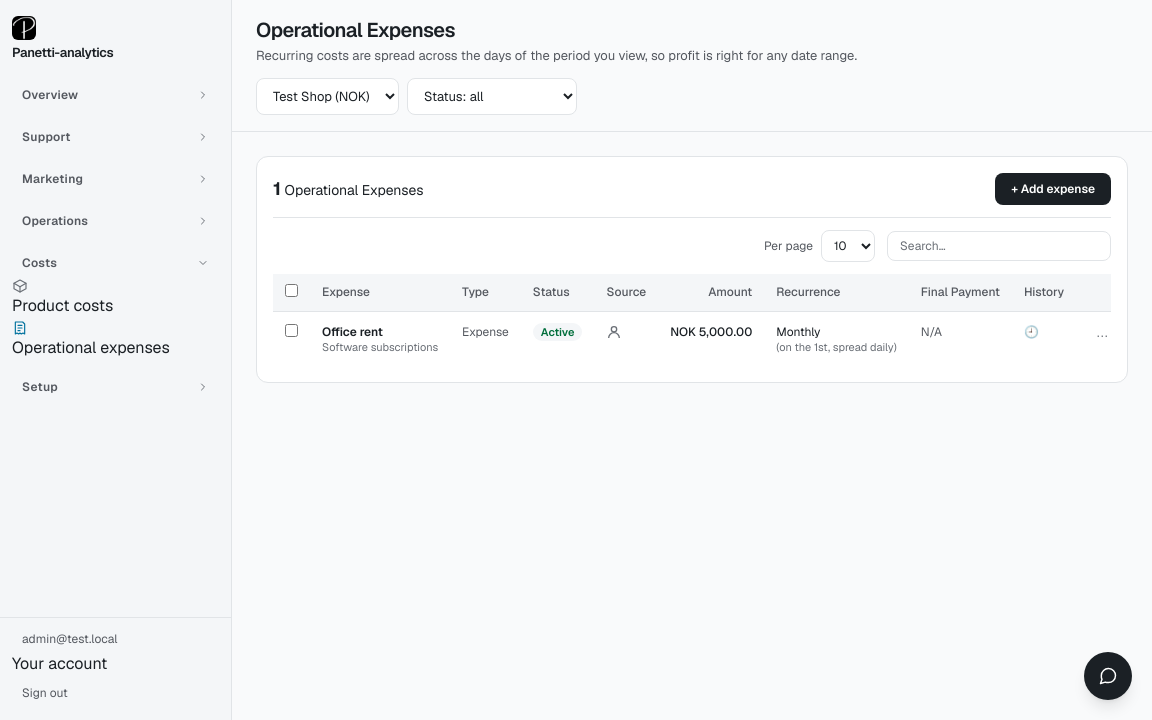
Test case: ExpensesClient - bulk delete fails › says the delete failed, rather than silently leaving the row
Expected: the text "Office rent" is shown, [322,324,383,340]
Step 1. Click the checkbox named "Select Office rent" → (292, 330), box [285,324,298,336]
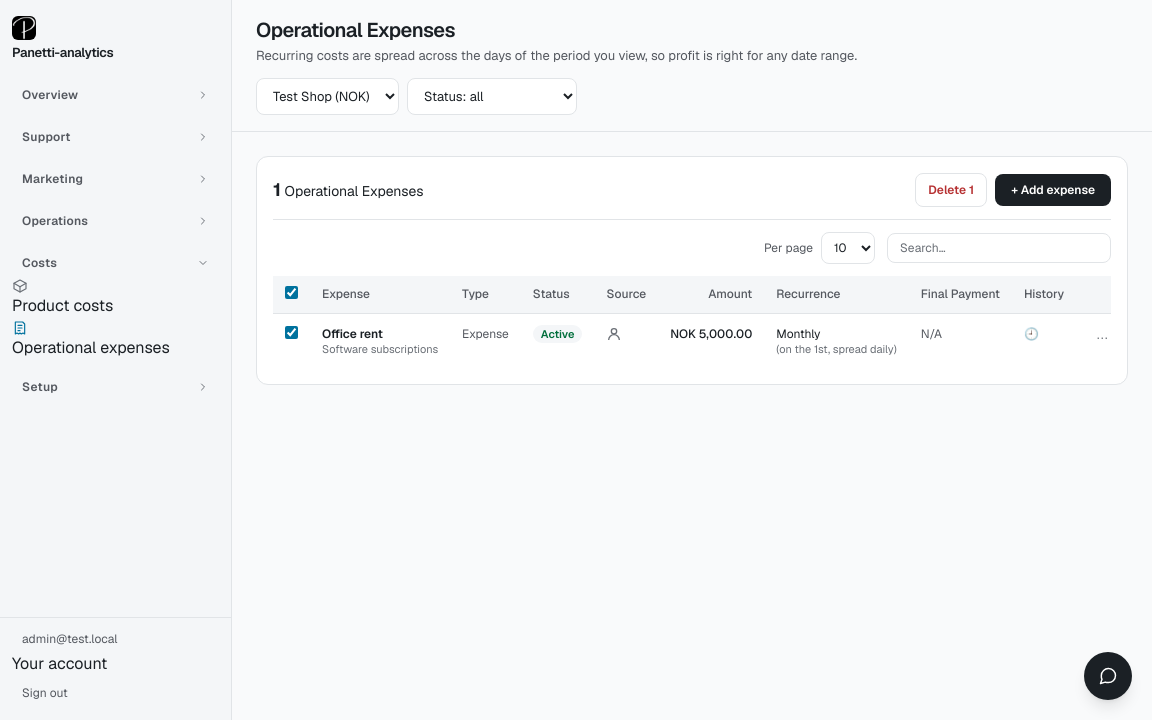
Step 2. Click the button "Delete 1" → (951, 190), box [915,172,987,206]
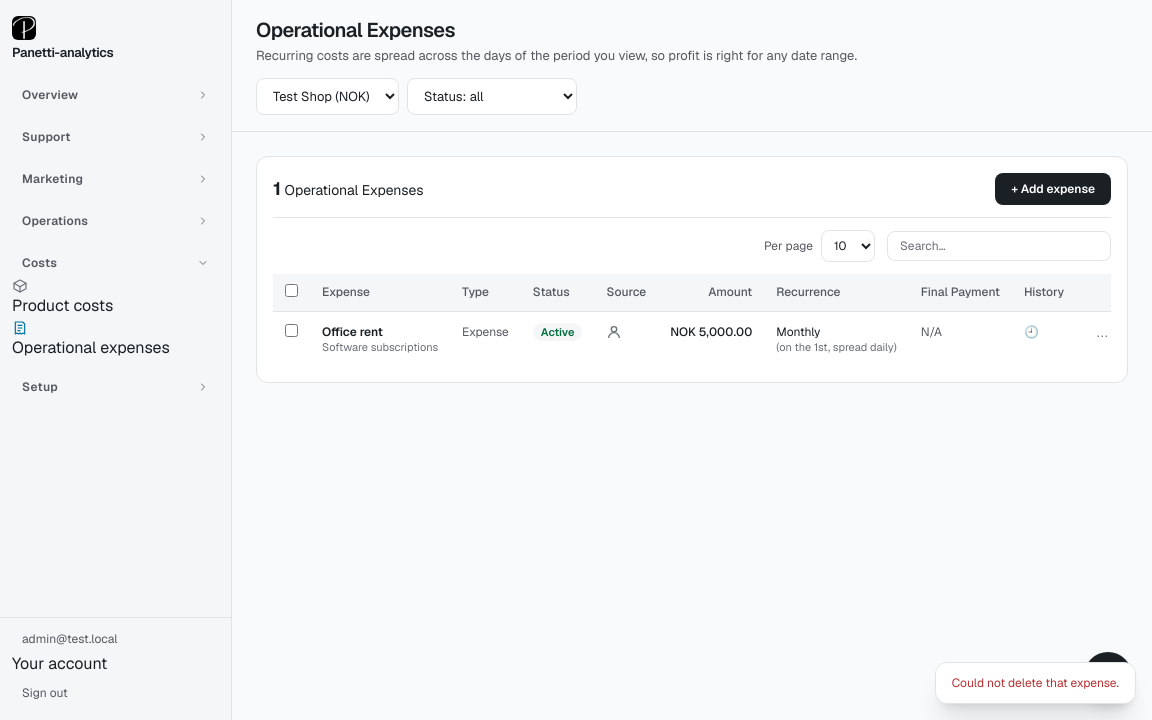
Expected: the text "Office rent" is shown, [322,324,383,340]
Now the button "Could not delete that expense." is shown, box [935,662,1136,704]
